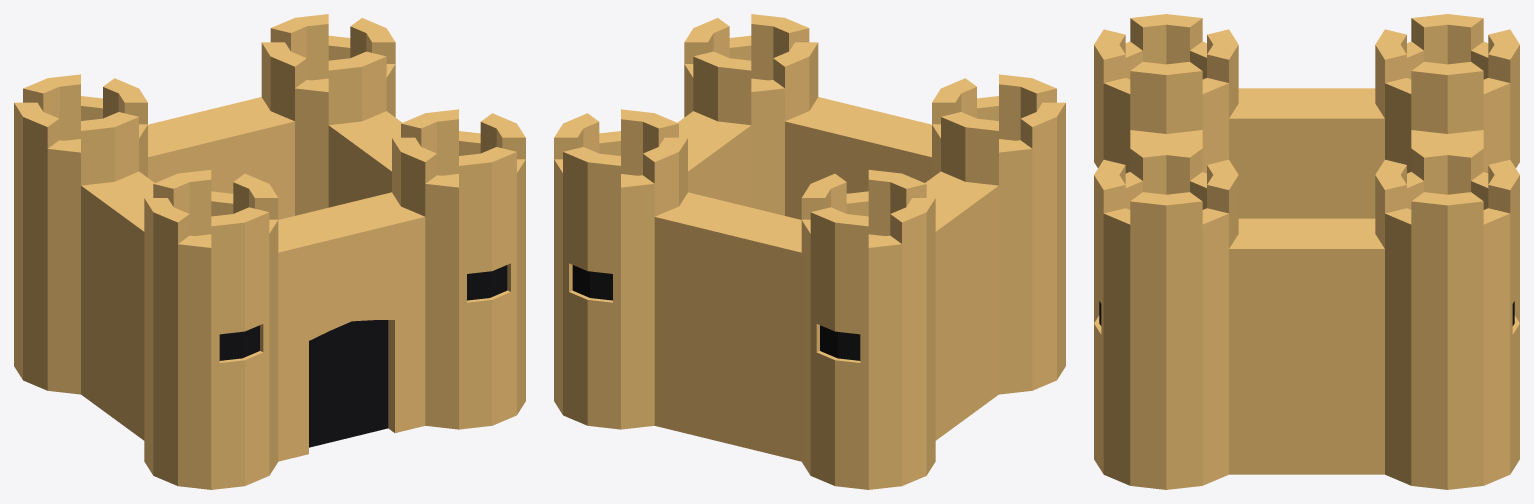
The model's file is Sand_Castle.fbx.
3 renders of one model, left to right at view 1: azimuth 30°, elevation 25°; view 2: azimuth 150°, elevation 25°; view 3: azimuth 270°, elevation 25°, orthographic. The views are drawn at different scales.
Visible parts, largest first — view 1: SandCastle; view 2: SandCastle; view 3: SandCastle.
Boxes of the visible parts, bbox=[...] form: SandCastle: bbox=[14, 14, 525, 489]; SandCastle: bbox=[554, 14, 1065, 489]; SandCastle: bbox=[1094, 14, 1519, 489].
Size of the model in its own units: 38.34 by 26.57 by 36.04.
1 material, 1 textured.
